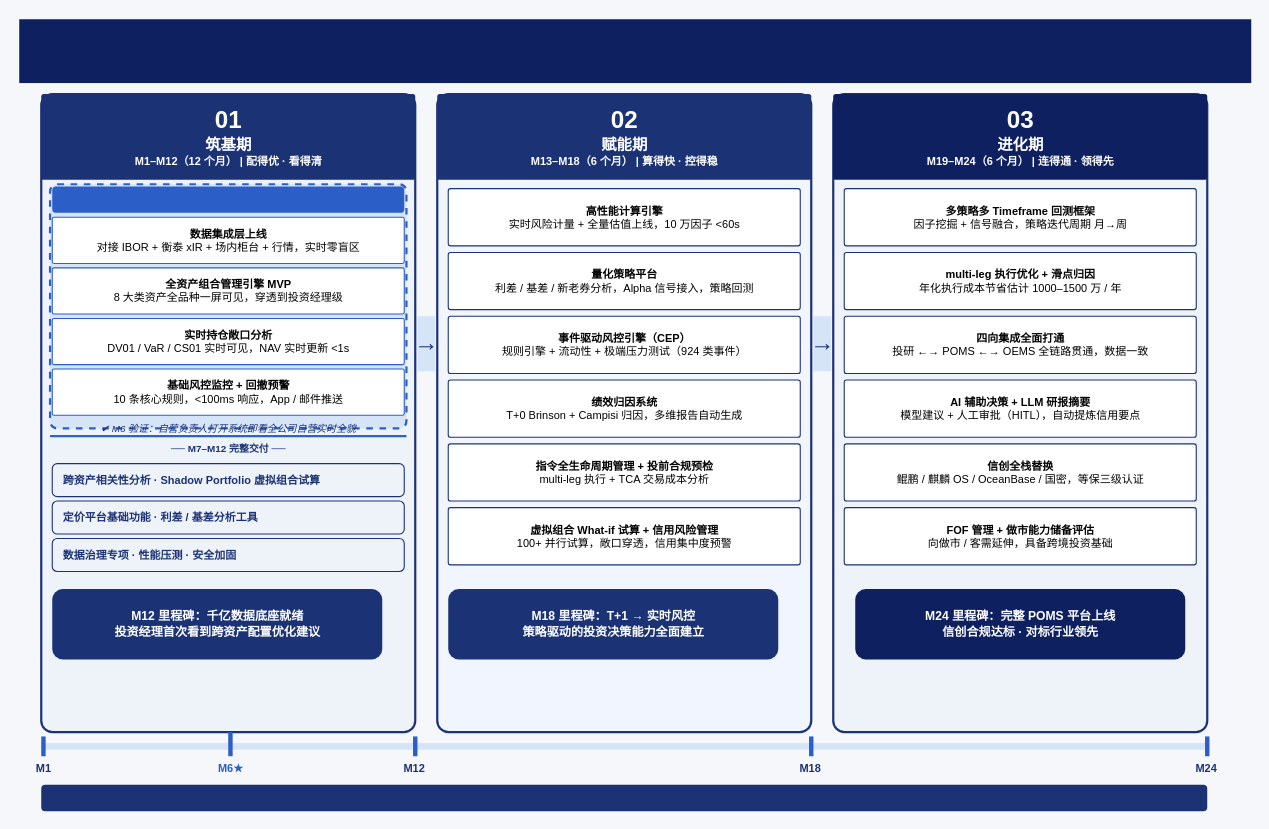
Some shapes in this 1269 by 829 pixel diagram are drawn without their labels. Here are the shapes that lost their labels. From the top down, the centre of each, then its label:
At (x=635, y=50): "POMS 三阶段实施路线图 24 个月分期见效 · Phase 1 第 6 个月灯塔效果 · Phase 3 信创全栈完整平台".
At (x=228, y=199): "★ M6 灯塔里程碑（Phase 1 Quick Win）".
At (x=624, y=797): "里程碑付款制 · M6 Quick Win 验收触发首期付款 · M12 / M18 / M24 分期结算".
